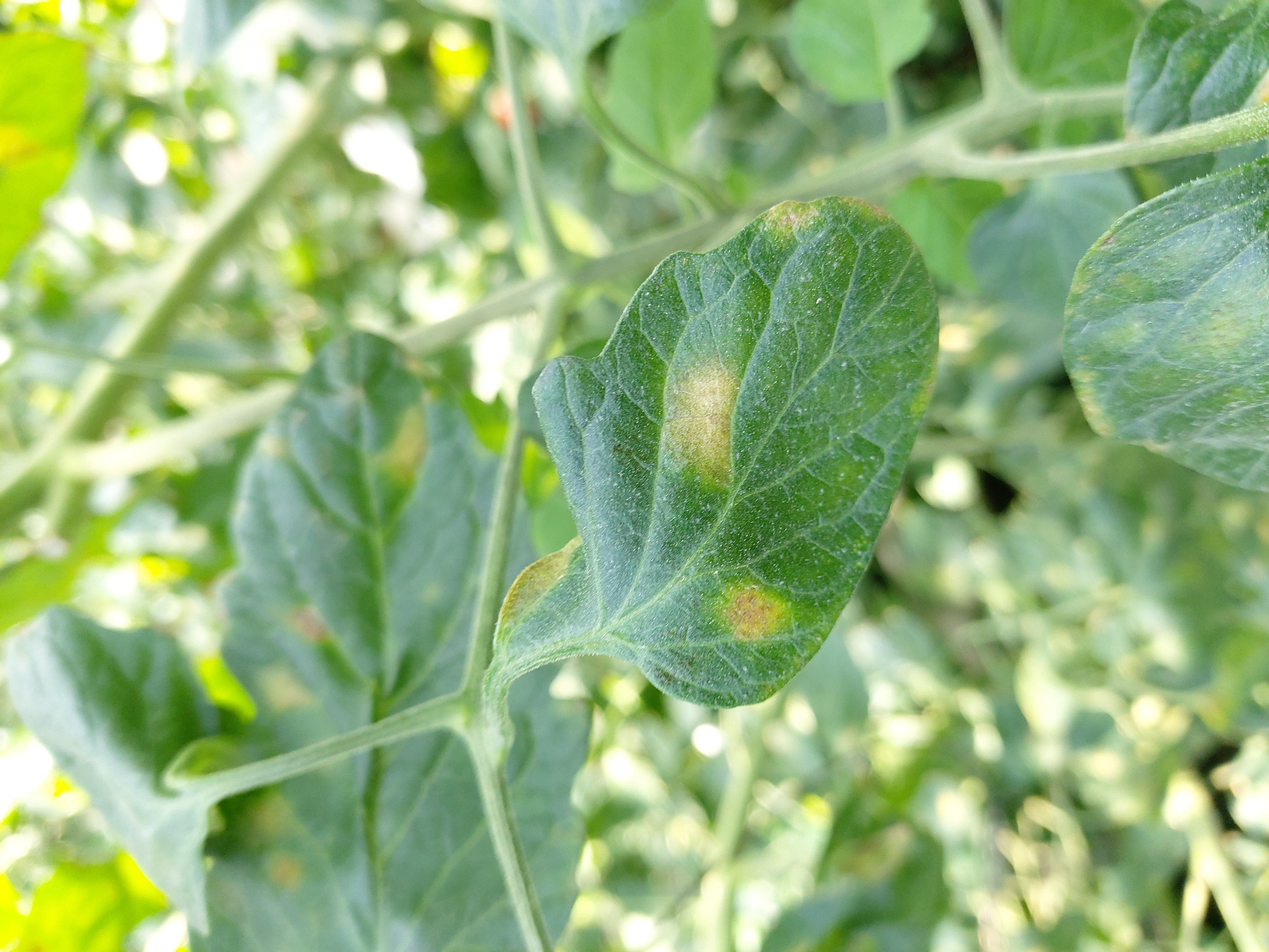Leaf Mold: (197, 328, 595, 952), (489, 193, 941, 710)
